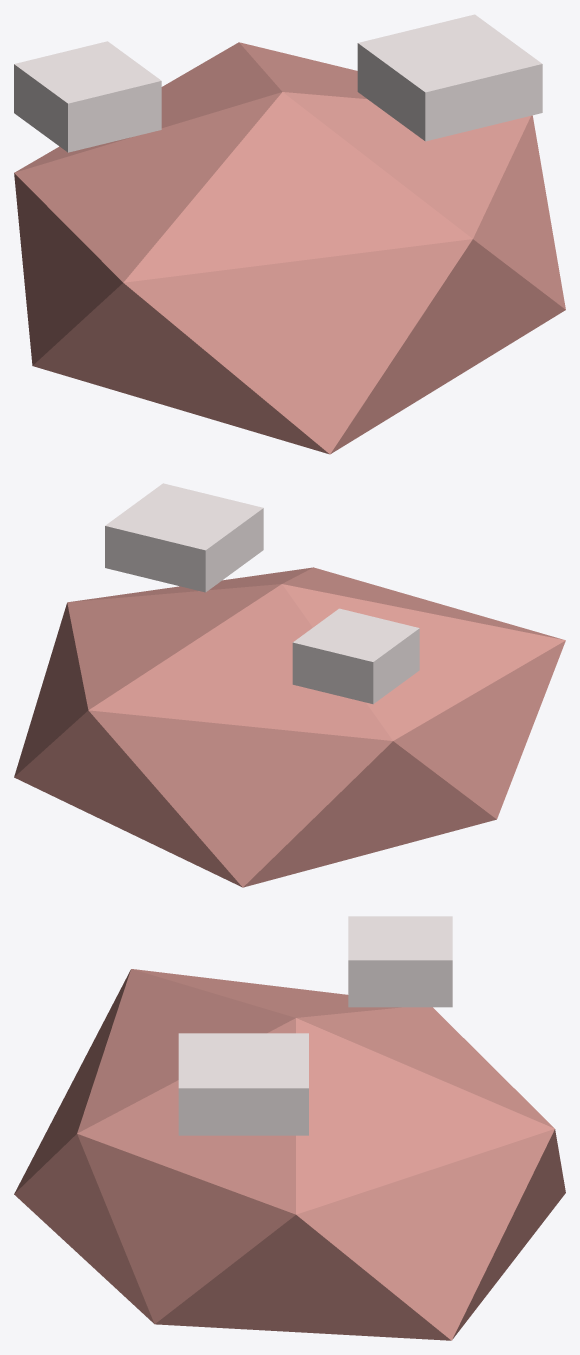
Rendered from flesh_held.gltf.
3 renders of one model, top to bottom at view 1: azimuth 30°, elevation 25°; view 2: azimuth 150°, elevation 25°; view 3: azimuth 270°, elevation 25°, orthographic. The views are drawn at different scales.
Visible parts, largest first — view 1: mobs_flesh_held; view 2: mobs_flesh_held; view 3: mobs_flesh_held.
Boxes of the visible parts, <box> form: mobs_flesh_held: <box>14,14,565,454</box>; mobs_flesh_held: <box>14,483,565,887</box>; mobs_flesh_held: <box>14,916,565,1340</box>.
Bounding box in the file's own units: 0.1067 × 0.0685 × 0.1059.
